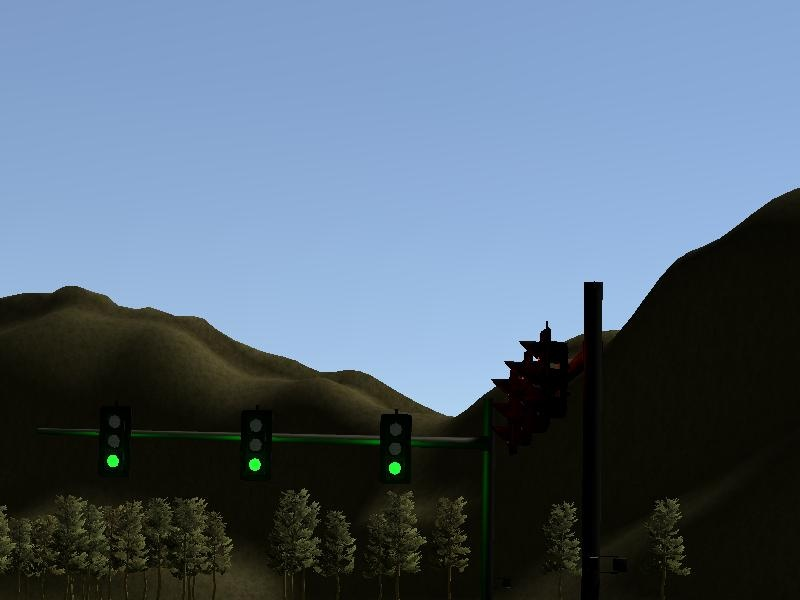Green: (98, 405, 132, 480), (378, 413, 413, 485), (239, 408, 273, 482)
